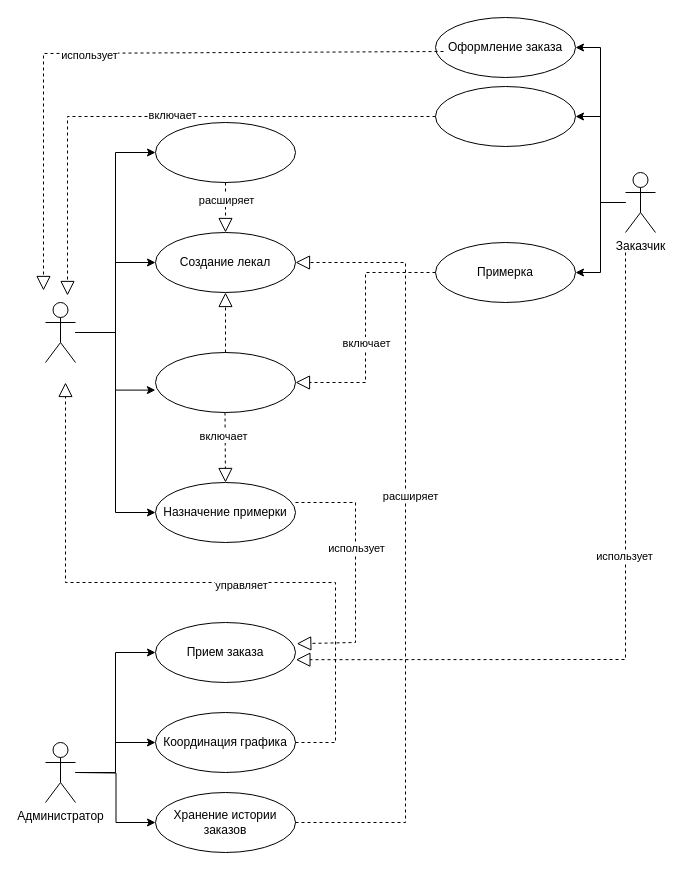
Some shapes in this 682 by 870 pixel diagram are drawn without their labels. The centre of each missing label's shape, as x and y in pixels:
Оплата заказа: (x=505, y=116)
Портной: (x=60, y=332)
Раскрой ткани: (x=225, y=382)
Снимает мерки: (x=225, y=152)
